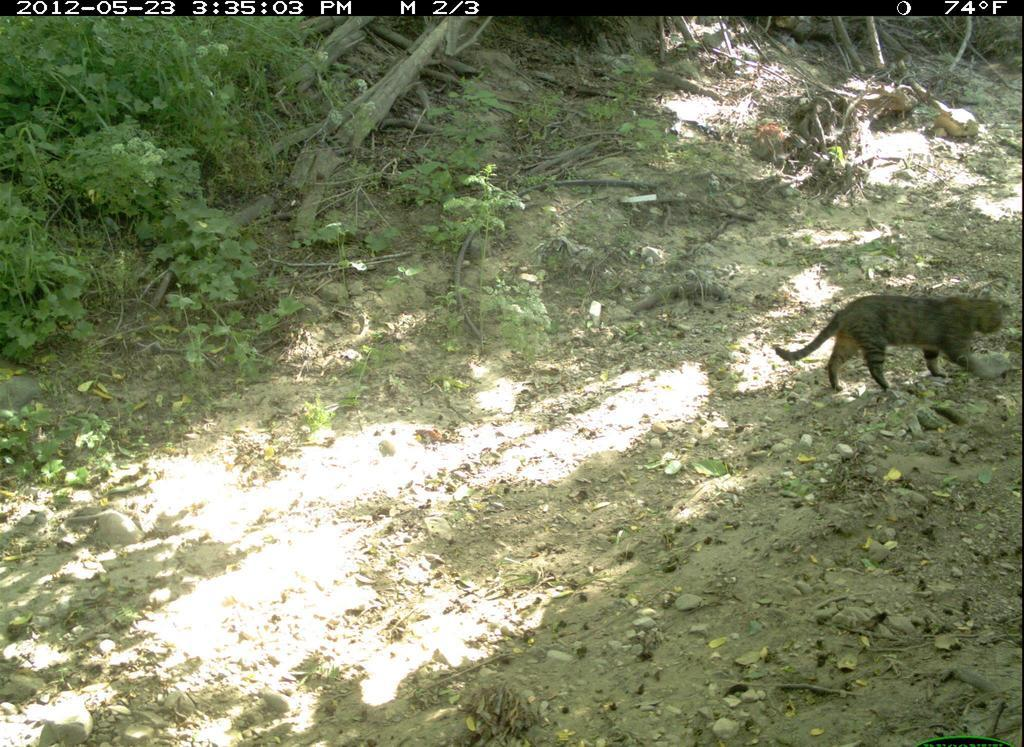cat: (765, 251, 1021, 409)
